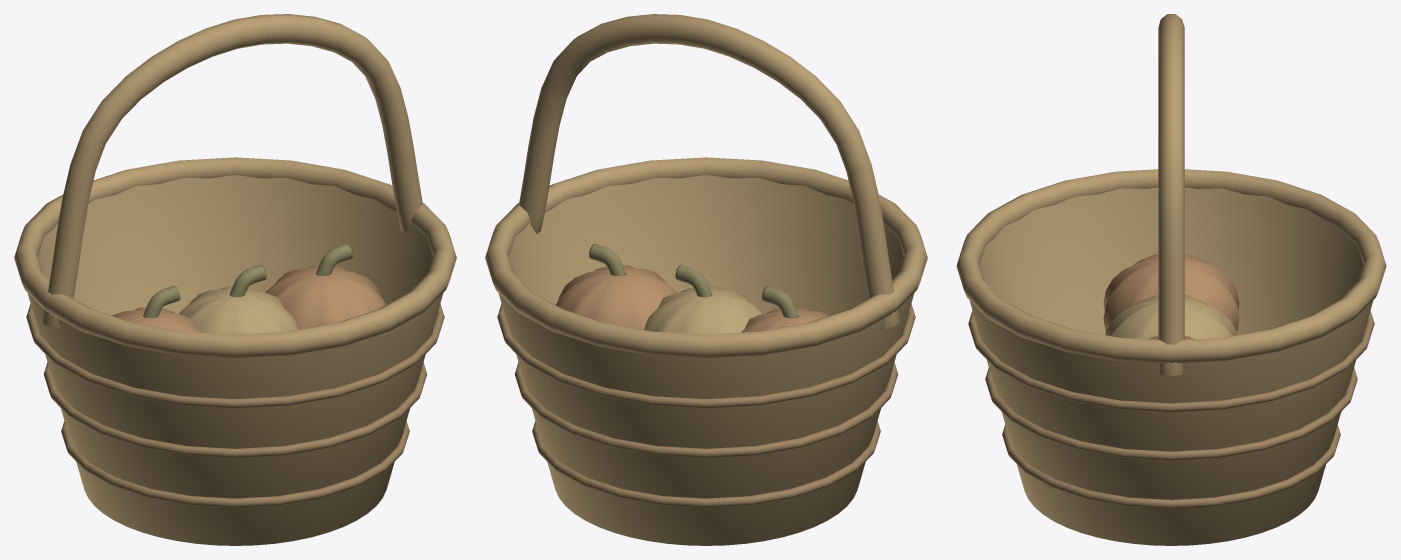
The model's file is harvestbasket.glb.
3 views of the same model, side by side, from view 1: azimuth 30°, elevation 25°; view 2: azimuth 150°, elevation 25°; view 3: azimuth 270°, elevation 25° (orthographic). The views are drawn at different scales.
Parts seen in each view (by area): view 1: harvest-hollow-basket, harvest-bound-rim, harvest-receiving-handle, harvest-gourd-2-ribbed-body, harvest-weave-band-2, harvest-weave-band-1, harvest-gourd-1-ribbed-body, harvest-weave-band-0, harvest-gourd-0-ribbed-body, harvest-gourd-0-stem, harvest-gourd-2-stem, harvest-gourd-1-stem; view 2: harvest-hollow-basket, harvest-bound-rim, harvest-receiving-handle, harvest-gourd-2-ribbed-body, harvest-weave-band-2, harvest-weave-band-1, harvest-gourd-1-ribbed-body, harvest-weave-band-0, harvest-gourd-0-ribbed-body, harvest-gourd-0-stem, harvest-gourd-2-stem, harvest-gourd-1-stem; view 3: harvest-hollow-basket, harvest-bound-rim, harvest-receiving-handle, harvest-gourd-0-ribbed-body, harvest-weave-band-2, harvest-weave-band-1, harvest-weave-band-0, harvest-gourd-1-ribbed-body.
Boxes of the visible parts, x1=… form: harvest-hollow-basket: x1=27, y1=169, x2=443, y2=545; harvest-bound-rim: x1=14, y1=157, x2=456, y2=358; harvest-receiving-handle: x1=42, y1=14, x2=422, y2=329; harvest-gourd-2-ribbed-body: x1=265, y1=265, x2=385, y2=329; harvest-weave-band-2: x1=26, y1=304, x2=444, y2=408; harvest-weave-band-1: x1=43, y1=362, x2=427, y2=457; harvest-gourd-1-ribbed-body: x1=179, y1=286, x2=297, y2=334; harvest-weave-band-0: x1=61, y1=421, x2=409, y2=507; harvest-gourd-0-ribbed-body: x1=112, y1=307, x2=200, y2=332; harvest-gourd-0-stem: x1=143, y1=285, x2=180, y2=318; harvest-gourd-2-stem: x1=316, y1=243, x2=352, y2=276; harvest-gourd-1-stem: x1=229, y1=264, x2=266, y2=297; harvest-hollow-basket: x1=498, y1=169, x2=914, y2=545; harvest-bound-rim: x1=485, y1=157, x2=927, y2=358; harvest-receiving-handle: x1=519, y1=14, x2=899, y2=329; harvest-gourd-2-ribbed-body: x1=556, y1=265, x2=676, y2=329; harvest-weave-band-2: x1=497, y1=304, x2=915, y2=408; harvest-weave-band-1: x1=514, y1=362, x2=898, y2=457; harvest-gourd-1-ribbed-body: x1=644, y1=286, x2=762, y2=334; harvest-weave-band-0: x1=532, y1=421, x2=880, y2=507; harvest-gourd-0-ribbed-body: x1=741, y1=307, x2=829, y2=332; harvest-gourd-0-stem: x1=761, y1=285, x2=798, y2=318; harvest-gourd-2-stem: x1=589, y1=243, x2=625, y2=276; harvest-gourd-1-stem: x1=675, y1=264, x2=712, y2=297; harvest-hollow-basket: x1=969, y1=182, x2=1373, y2=545; harvest-bound-rim: x1=956, y1=169, x2=1386, y2=363; harvest-receiving-handle: x1=1158, y1=14, x2=1184, y2=375; harvest-gourd-0-ribbed-body: x1=1103, y1=254, x2=1239, y2=331; harvest-weave-band-2: x1=968, y1=311, x2=1374, y2=412; harvest-weave-band-1: x1=985, y1=367, x2=1357, y2=460; harvest-weave-band-0: x1=1002, y1=425, x2=1340, y2=508; harvest-gourd-1-ribbed-body: x1=1105, y1=295, x2=1237, y2=339.
Size of the model in its own units: 0.488 by 0.5598 by 0.488.
